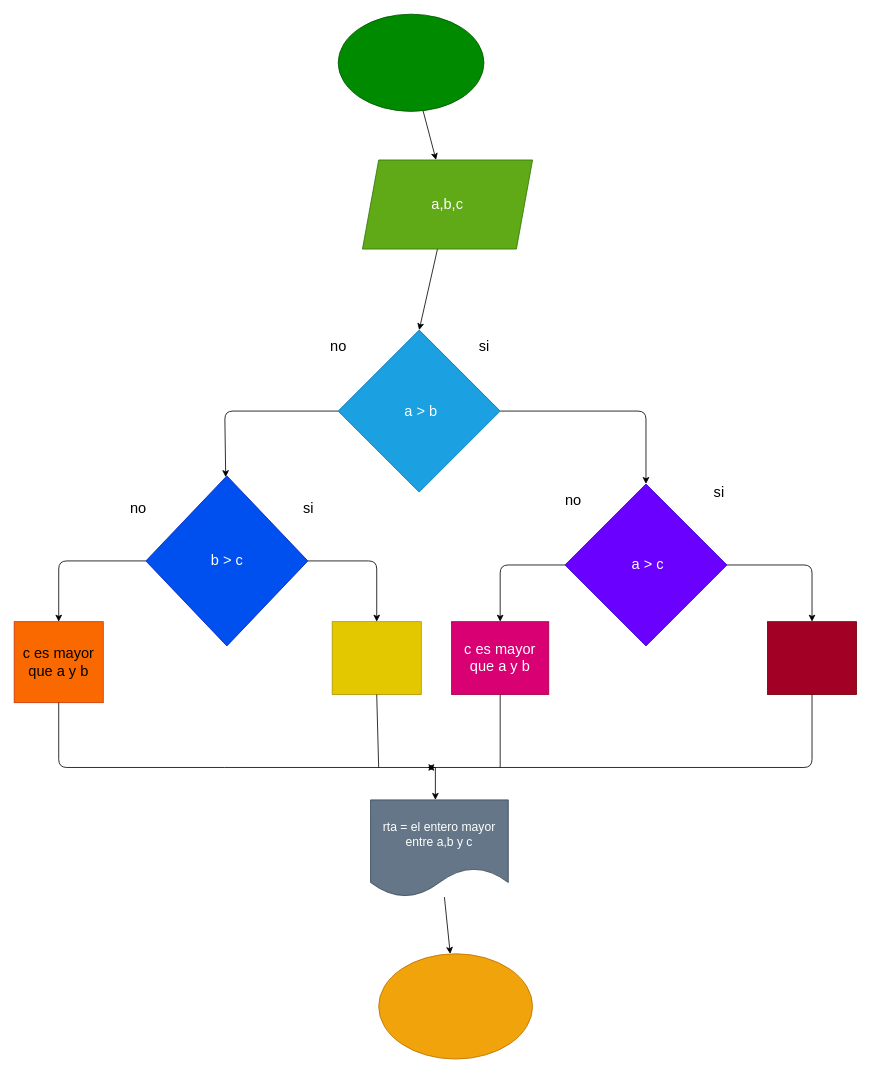
This 871x1073 diagram has some shape labels left out. The shapes that lost their labels are listed below. From the top down, each one's centre as x and y in pixels, then its label:
At (410,62): "INIICIO".
At (376,658): "b es mayor que a y c".
At (812,658): "a es mayor que b y c".
At (455,1006): "FIN".
